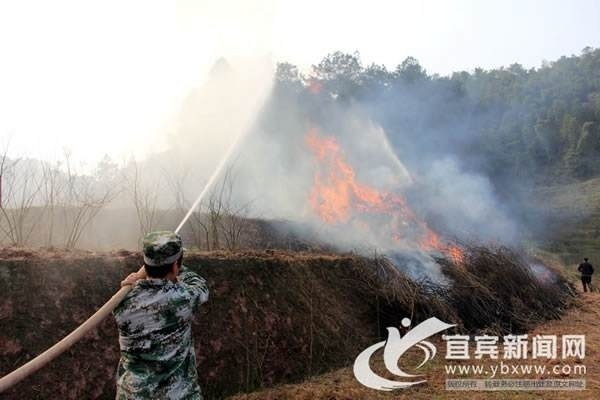fire: (300, 128, 467, 263)
